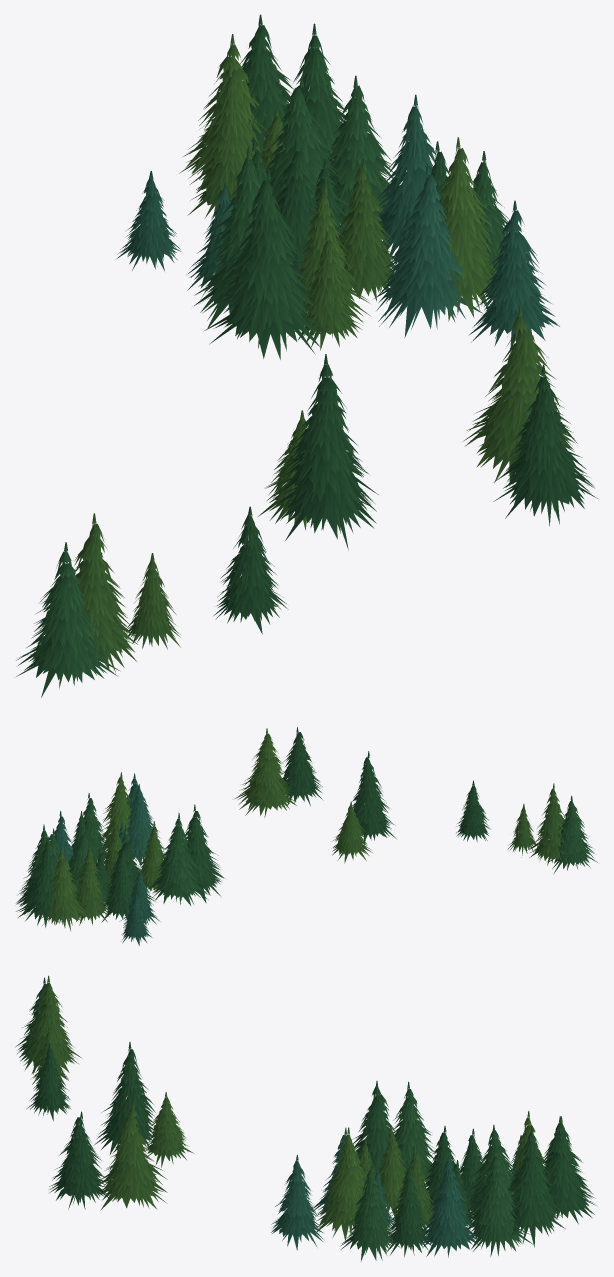
The model's file is pine_22.glb.
The picture shows the model from 3 angles, top to bottom: view 1: azimuth 30°, elevation 25°; view 2: azimuth 150°, elevation 25°; view 3: azimuth 270°, elevation 25°; orthographic projection. The views are drawn at different scales.
Visible parts, largest first — view 1: pine_22; view 2: pine_22; view 3: pine_22.
Boxes of the visible parts, bbox=[...] form: pine_22: bbox=[16, 14, 597, 697]; pine_22: bbox=[16, 727, 597, 945]; pine_22: bbox=[15, 975, 596, 1261].
Bounding box in the file's own units: 65.72 × 17.28 × 69.64.
1 material, 1 textured.
